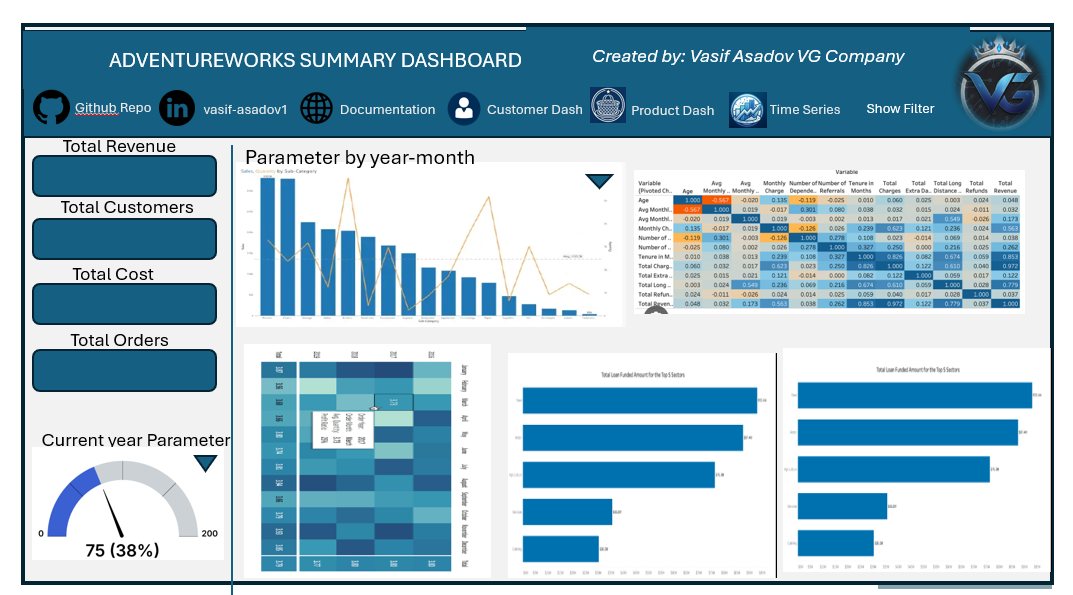

This screenshot's page, from the dashboard's own definition file:
{"tool":"tableau","page":{"name":"Dashboard 2","canvas":[1600,820],"ordinal":0},"visuals":[{"type":"text","box":[0,0,796,66]},{"type":"text","box":[796,0,724,66]},{"type":"image","param":"Image/github_icon.png","box":[0,66,70,55]},{"type":"text","box":[70,66,105,55]},{"type":"image","param":"Image/linkedin_icon.png","box":[175,66,74,55]},{"type":"text","box":[249,66,128,55]},{"type":"image","param":"Image/website_icon.png","box":[377,66,58,55]},{"type":"text","box":[435,66,136,55]},{"type":"parameter","param":"[Parameters].[Parameter 5]","box":[1383,66,137,55]},{"type":"text","box":[1,122,320,32]},{"type":"text","box":[323,122,638,40]},{"type":"text","box":[963,122,556,40]},{"type":"parameter","param":"[Parameters].[Parameter 1]","box":[2,127,320,56]},{"type":"worksheet","title":"Total Revenue","mark":"Automatic","box":[1,154,320,56]},{"type":"worksheet","title":"Revenue by Months","mark":"Line","rows":["revenue","Calculation_779122778911006740"],"cols":["order_date"],"box":[323,162,638,294]},{"type":"worksheet","title":"Education vs Occupation","mark":"Square","rows":["customer_education"],"cols":["customer_occupation"],"box":[963,162,556,294]},{"type":"parameter","param":"[Parameters].[Parameter 2]","box":[2,183,320,56]},{"type":"text","box":[1,212,320,32]},{"type":"filter","title":"Countries by Revenue","param":"[federated.1xpif5a1pxvirg1dyxkjb1oa5h2w].[attr:sales_country:nk]","box":[2,239,320,61]},{"type":"worksheet","title":"Total Cost","mark":"Automatic","box":[1,244,320,56]},{"type":"filter","title":"Countries by Revenue","param":"[federated.1xpif5a1pxvirg1dyxkjb1oa5h2w].[none:sales_state:nk]","box":[2,300,320,61]},{"type":"text","box":[1,302,320,32]},{"type":"worksheet","title":"Total Profit","mark":"Automatic","box":[1,334,320,56]},{"type":"filter","title":"Age vs Marital Vs Gender","param":"[federated.1xpif5a1pxvirg1dyxkjb1oa5h2w].[none:Calculation_779122778924527643:nk","box":[2,361,320,61]},{"type":"text","box":[1,392,320,32]},{"type":"filter","title":"Education vs Occupation","param":"[federated.1xpif5a1pxvirg1dyxkjb1oa5h2w].[none:customer_education:nk]","box":[2,422,320,61]},{"type":"worksheet","title":"Total Orders","mark":"Automatic","box":[1,424,320,56]},{"type":"text","box":[738,457,376,42]},{"type":"text","box":[1114,457,406,42]},{"type":"text","box":[323,458,414,42]},{"type":"text","box":[1,482,320,32]},{"type":"filter","title":"Education vs Occupation","param":"[federated.1xpif5a1pxvirg1dyxkjb1oa5h2w].[none:customer_occupation:nk]","box":[2,483,320,61]},{"type":"worksheet","title":"Products Pareto","mark":"Automatic","rows":["product_name"],"cols":["Calculation_779122778911006740"],"box":[738,499,376,285]},{"type":"worksheet","title":"Countries by Revenue","mark":"Automatic","rows":["sales_state"],"cols":["Calculation_779122778911006740"],"box":[1114,499,406,285]},{"type":"worksheet","title":"Age vs Marital Vs Gender","mark":"Square","rows":["Calculation_779122778923696154"],"cols":["Calculation_779122778924527643"],"box":[323,500,414,283]},{"type":"worksheet","title":"Total Customers","mark":"Automatic","box":[1,514,320,56]},{"type":"filter","title":"Revenue by Months","param":"[federated.1xpif5a1pxvirg1dyxkjb1oa5h2w].[yr:order_date:ok]","box":[2,544,320,61]},{"type":"text","box":[1,572,320,43]},{"type":"filter","title":"Products Pareto","param":"[federated.1xpif5a1pxvirg1dyxkjb1oa5h2w].[attr:product_category:nk]","box":[2,605,320,61]},{"type":"worksheet","title":"Revenue bullet chart","mark":"Automatic","cols":["Calculation_779122778881884172"],"box":[1,615,320,168]},{"type":"worksheet","title":"Reset Button","mark":"Automatic","box":[2,666,320,118]}]}

Visuals, with their boxes on the page's 1600x820 design canvas (x1, y1, x2, y2). These are canvas units, not pixel positions in the 1073x595 screenshot, which may show the page scaled, cropped or inside an application window:
text: [0,0,796,66]
text: [796,0,1520,66]
image: [0,66,70,121]
text: [70,66,175,121]
image: [175,66,249,121]
text: [249,66,377,121]
image: [377,66,435,121]
text: [435,66,571,121]
parameter: [1383,66,1520,121]
text: [1,122,321,154]
text: [323,122,961,162]
text: [963,122,1519,162]
parameter: [2,127,322,183]
"Total Revenue" worksheet: [1,154,321,210]
"Revenue by Months" worksheet (Line marks): [323,162,961,456]
"Education vs Occupation" worksheet (Square marks): [963,162,1519,456]
parameter: [2,183,322,239]
text: [1,212,321,244]
"Countries by Revenue" filter: [2,239,322,300]
"Total Cost" worksheet: [1,244,321,300]
"Countries by Revenue" filter: [2,300,322,361]
text: [1,302,321,334]
"Total Profit" worksheet: [1,334,321,390]
"Age vs Marital Vs Gender" filter: [2,361,322,422]
text: [1,392,321,424]
"Education vs Occupation" filter: [2,422,322,483]
"Total Orders" worksheet: [1,424,321,480]
text: [738,457,1114,499]
text: [1114,457,1520,499]
text: [323,458,737,500]
text: [1,482,321,514]
"Education vs Occupation" filter: [2,483,322,544]
"Products Pareto" worksheet: [738,499,1114,784]
"Countries by Revenue" worksheet: [1114,499,1520,784]
"Age vs Marital Vs Gender" worksheet (Square marks): [323,500,737,783]
"Total Customers" worksheet: [1,514,321,570]
"Revenue by Months" filter: [2,544,322,605]
text: [1,572,321,615]
"Products Pareto" filter: [2,605,322,666]
"Revenue bullet chart" worksheet: [1,615,321,783]
"Reset Button" worksheet: [2,666,322,784]
